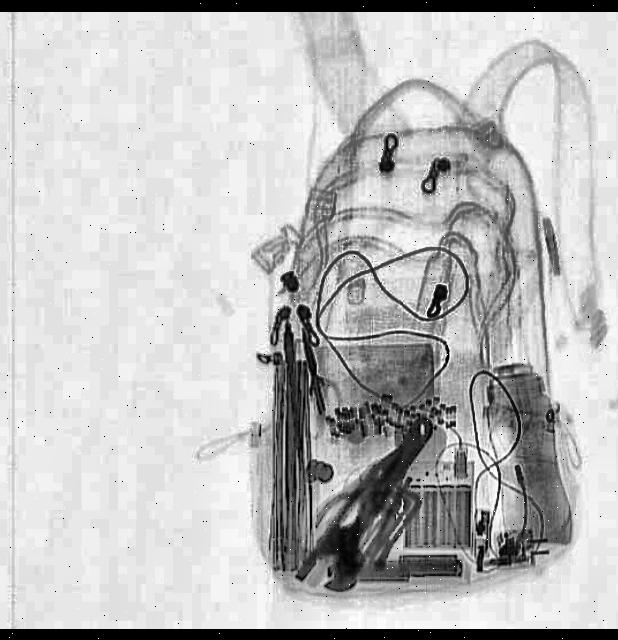Wrench: (300, 400, 446, 602)
